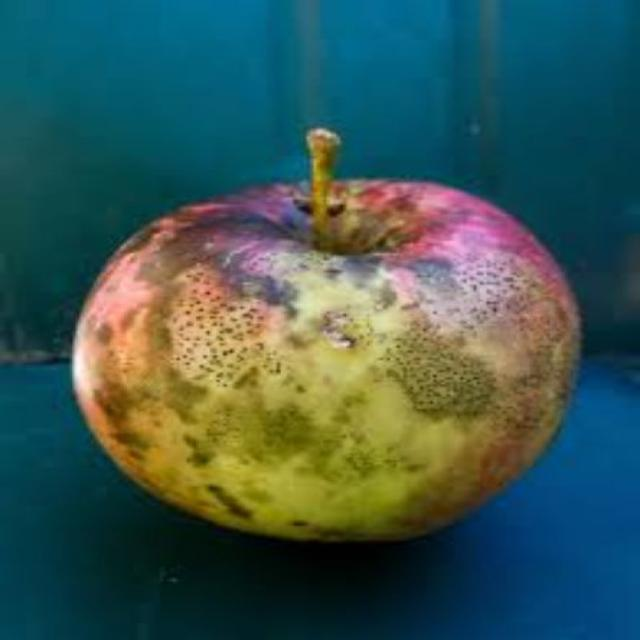Rotten Apple: (66, 156, 612, 577)
